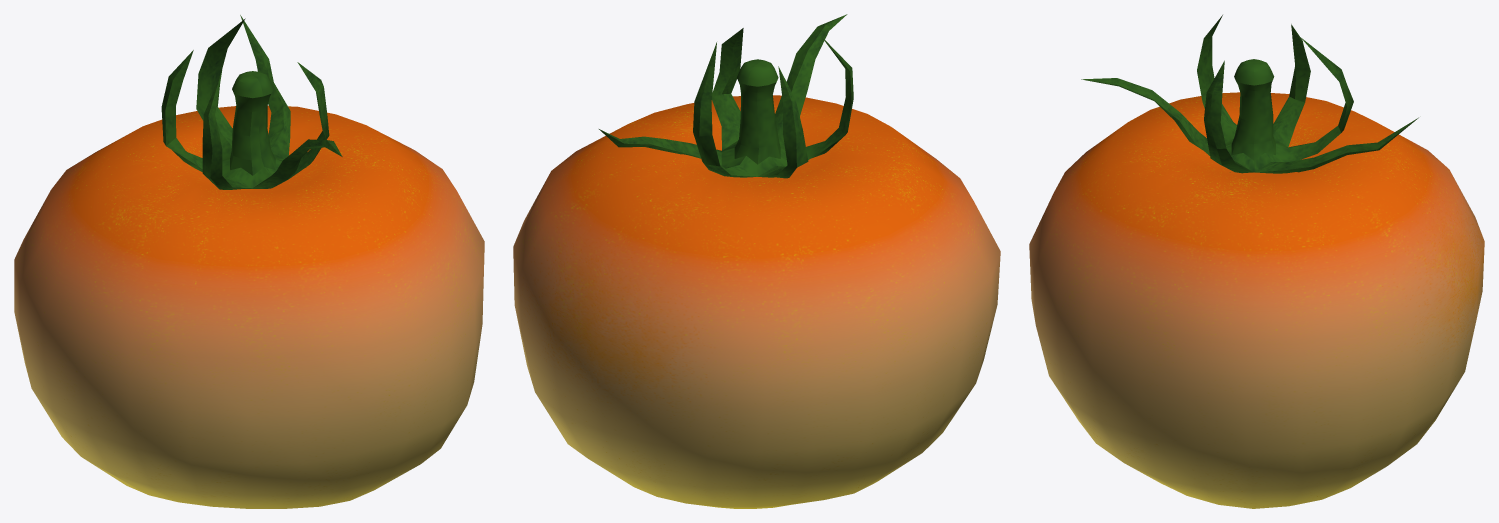
Rendered from tomato10.fbx.
The picture shows the model from 3 angles, left to right: view 1: azimuth 30°, elevation 25°; view 2: azimuth 150°, elevation 25°; view 3: azimuth 270°, elevation 25°; orthographic projection. The views are drawn at different scales.
Visible parts, largest first — view 1: Tomato10; view 2: Tomato10; view 3: Tomato10.
Boxes of the visible parts, x1,y1,x2,y2 form: Tomato10: (14, 15, 484, 508); Tomato10: (513, 14, 1000, 508); Tomato10: (1029, 15, 1484, 508).
Size of the model in its own units: 7.08 by 7.42 by 6.88.
1 material, 1 textured.
